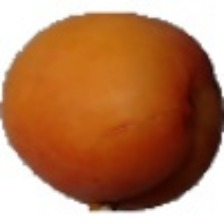apricot: (13, 19, 182, 193)
